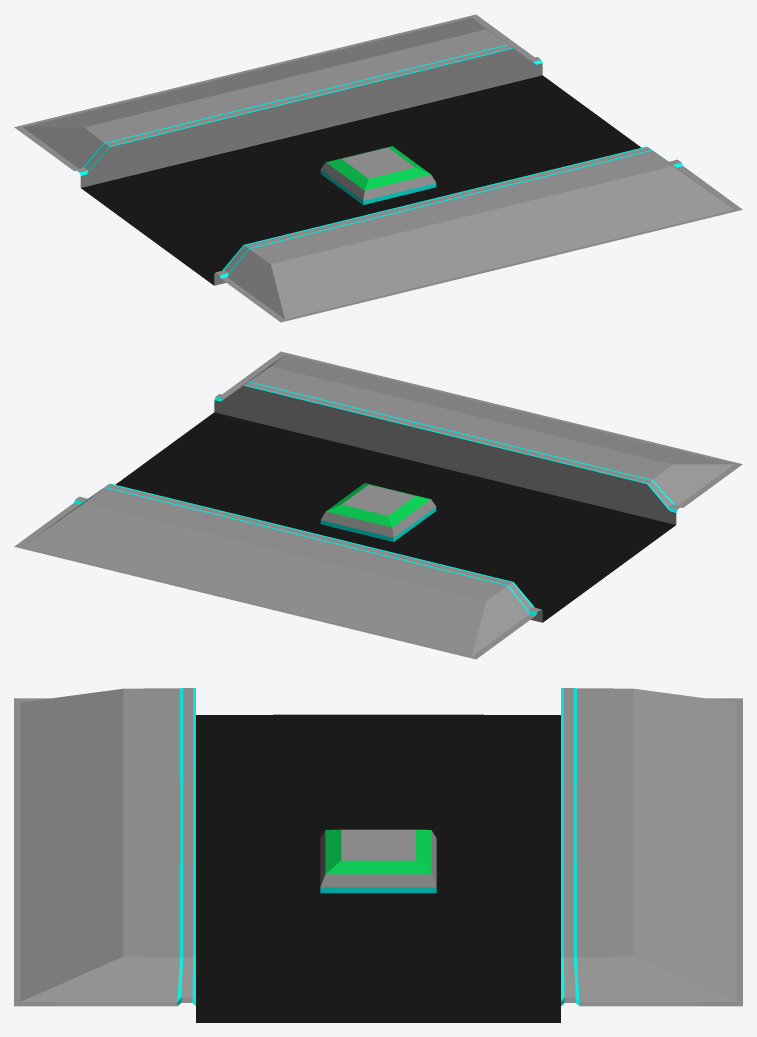
File: rail_plate_straight_01.FBX
The picture shows the model from 3 angles, top to bottom: view 1: azimuth 30°, elevation 25°; view 2: azimuth 150°, elevation 25°; view 3: azimuth 270°, elevation 25°; orthographic projection. The views are drawn at different scales.
Visible parts, largest first — view 1: rail_plate_straight_01; view 2: rail_plate_straight_01; view 3: rail_plate_straight_01.
Boxes of the visible parts, left/top/right/bottom form: rail_plate_straight_01: left=14, top=14, right=742, bottom=322; rail_plate_straight_01: left=14, top=351, right=742, bottom=659; rail_plate_straight_01: left=14, top=688, right=742, bottom=1022.
Bounding box in the file's own units: 400 × 27.96 × 400.
